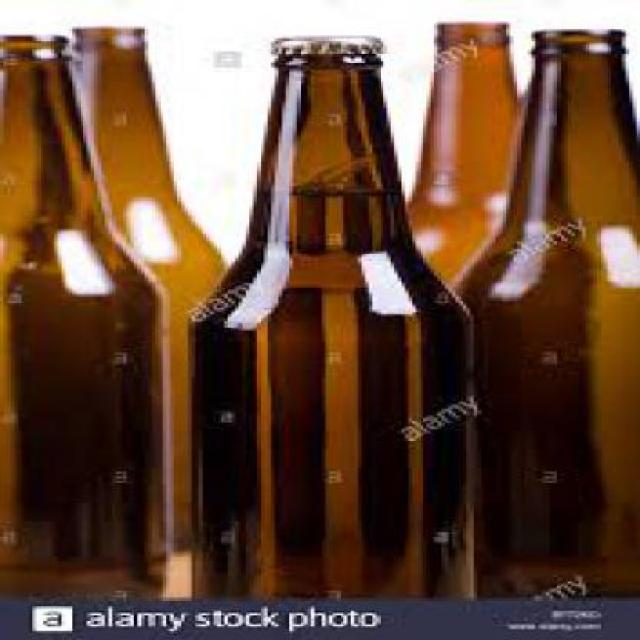kaca: (188, 54, 470, 600), (449, 28, 637, 598), (0, 34, 163, 595), (72, 23, 228, 552), (402, 20, 528, 343)
